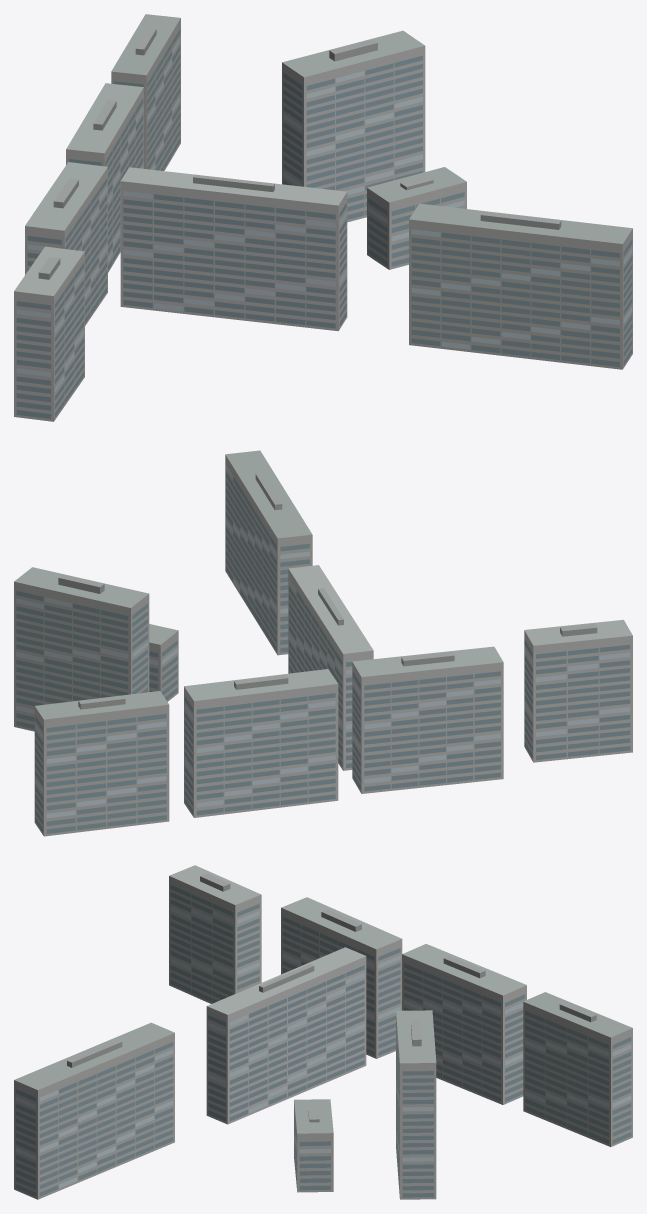
Rendered from apt-a15676512.glb.
3 views of the same model, one above another, from view 1: azimuth 30°, elevation 25°; view 2: azimuth 150°, elevation 25°; view 3: azimuth 270°, elevation 25° (orthographic). The views are drawn at different scales.
Visible parts, largest first — view 1: apt-a15676512; view 2: apt-a15676512; view 3: apt-a15676512.
Part boxes in pixels (x1,y1,x2,y2): apt-a15676512: [14, 14, 632, 421]; apt-a15676512: [14, 450, 632, 836]; apt-a15676512: [14, 865, 632, 1199].
Size of the model in its own units: 172 by 51 by 200.
